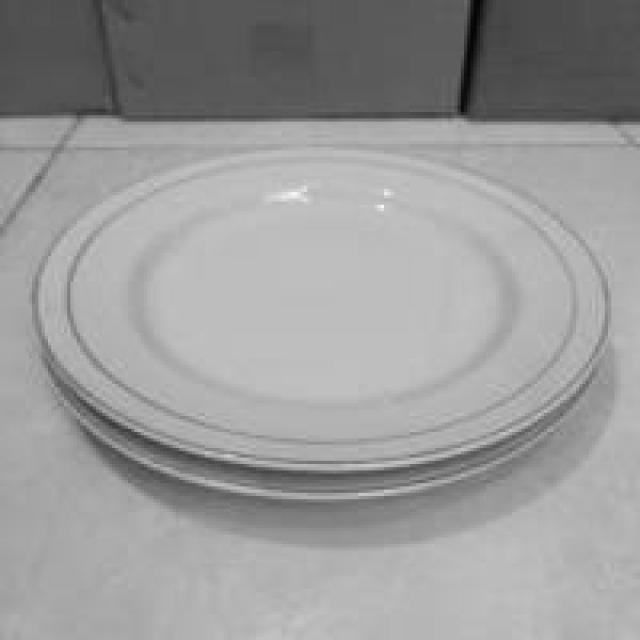dish: (31, 112, 630, 514)
